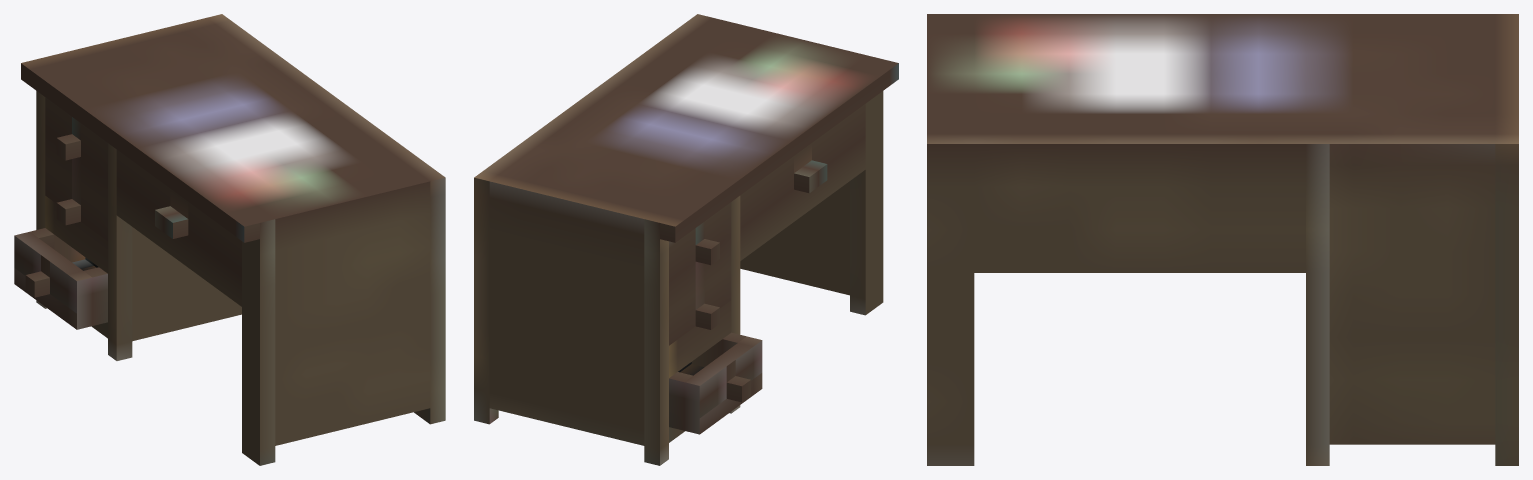
The model's file is OfficeDesk_00.obj.
The picture shows the model from 3 angles, left to right: view 1: azimuth 30°, elevation 25°; view 2: azimuth 150°, elevation 25°; view 3: azimuth 270°, elevation 25°; orthographic projection. The views are drawn at different scales.
Parts seen in each view (by area): view 1: OfficeDesk_00; view 2: OfficeDesk_00; view 3: OfficeDesk_00.
Boxes of the visible parts, box(x1,y1,x2,y2) form: OfficeDesk_00: box(14, 14, 445, 465); OfficeDesk_00: box(474, 14, 898, 465); OfficeDesk_00: box(927, 14, 1518, 465).
Size of the model in its own units: 0.75 by 0.75 by 1.25.
